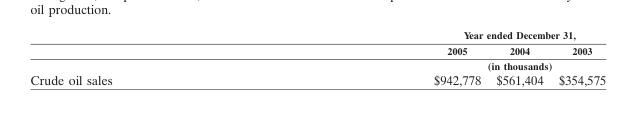table: (29, 28, 605, 87)
table column: (29, 28, 272, 87), (272, 28, 487, 87), (487, 28, 550, 87), (550, 28, 605, 87)
table column header: (29, 28, 605, 71)
table row: (29, 71, 605, 87), (29, 42, 605, 57), (29, 28, 605, 42), (29, 57, 605, 71)
table spanning cell: (272, 28, 605, 42), (272, 57, 605, 71)
